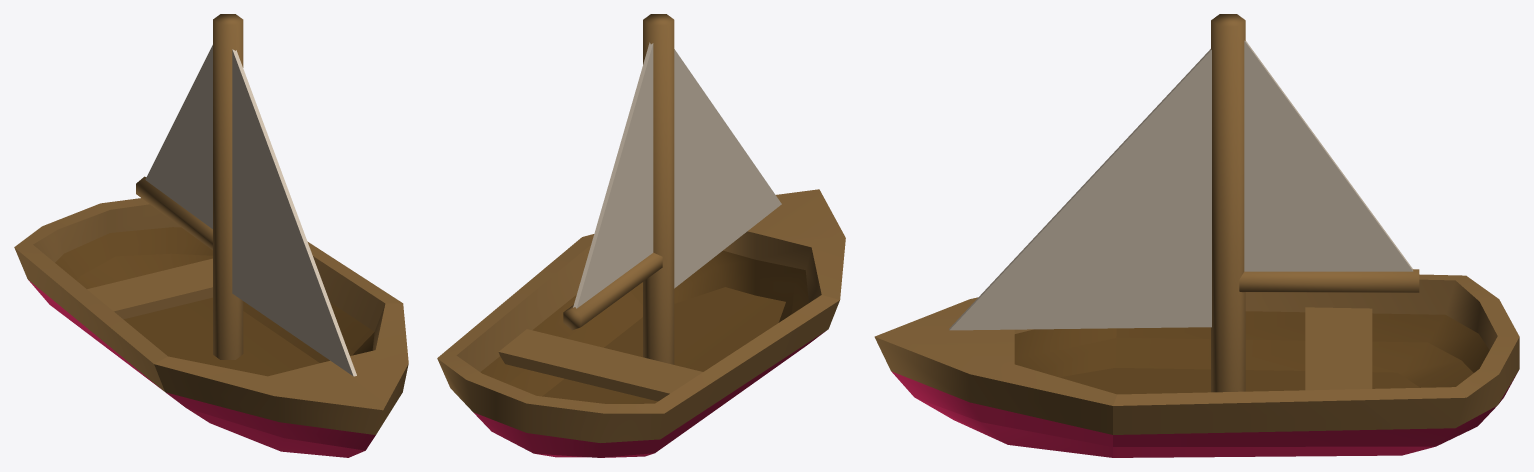
Rendered from SM_Boat_02.fbx.
The picture shows the model from 3 angles, left to right: view 1: azimuth 30°, elevation 25°; view 2: azimuth 150°, elevation 25°; view 3: azimuth 270°, elevation 25°; orthographic projection. The views are drawn at different scales.
Visible parts, largest first — view 1: barca.001; view 2: barca.001; view 3: barca.001.
Boxes of the visible parts, x1,y1,x2,y2 form: barca.001: [14, 14, 408, 457]; barca.001: [437, 14, 845, 457]; barca.001: [874, 14, 1519, 457].
Bounding box in the file's own units: 173 × 232 × 339.
